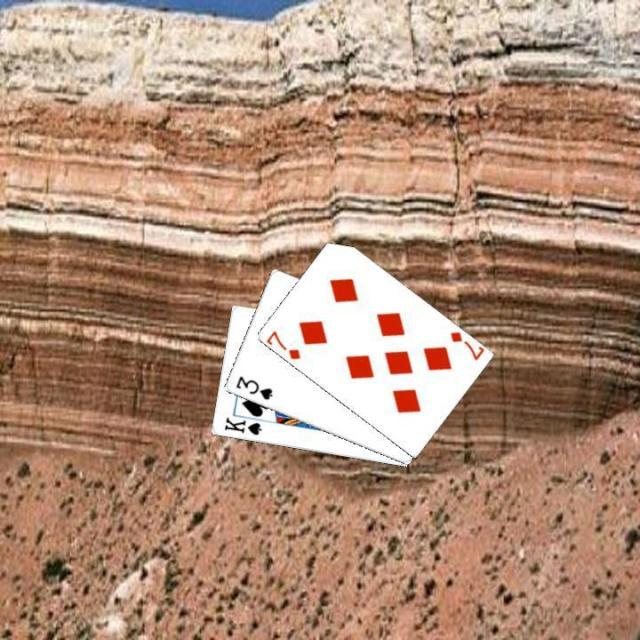3S: (231, 372, 274, 402)
7D: (263, 326, 302, 362), (446, 328, 484, 363)
KS: (220, 413, 264, 438)
